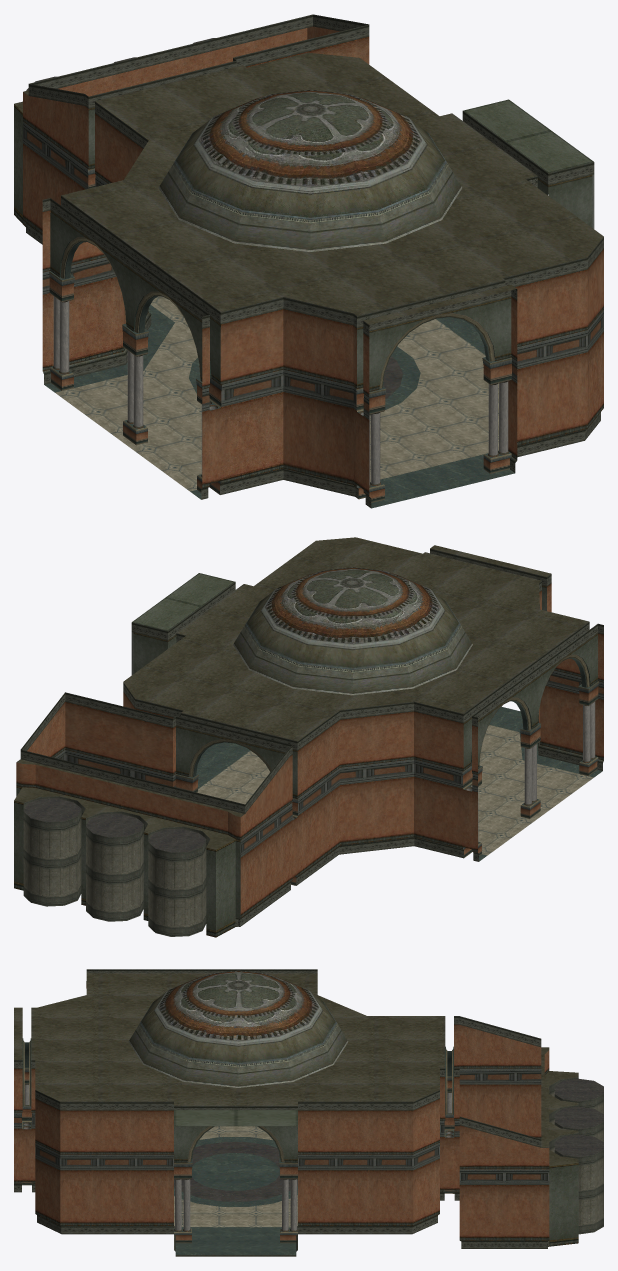
The model's file is mun_corl_hotel_s01_r4_mesh_lobby1.fbx.
The picture shows the model from 3 angles, top to bottom: view 1: azimuth 30°, elevation 25°; view 2: azimuth 150°, elevation 25°; view 3: azimuth 270°, elevation 25°; orthographic projection. The views are drawn at different scales.
Visible parts, largest first — view 1: mesh_node; view 2: mesh_node; view 3: mesh_node.
Part boxes in pixels (x1=…): mesh_node: x1=14, y1=14, x2=603, y2=508; mesh_node: x1=14, y1=537, x2=603, y2=937; mesh_node: x1=14, y1=969, x2=603, y2=1256.
Size of the model in its own units: 22.9 by 12.74 by 35.75.
